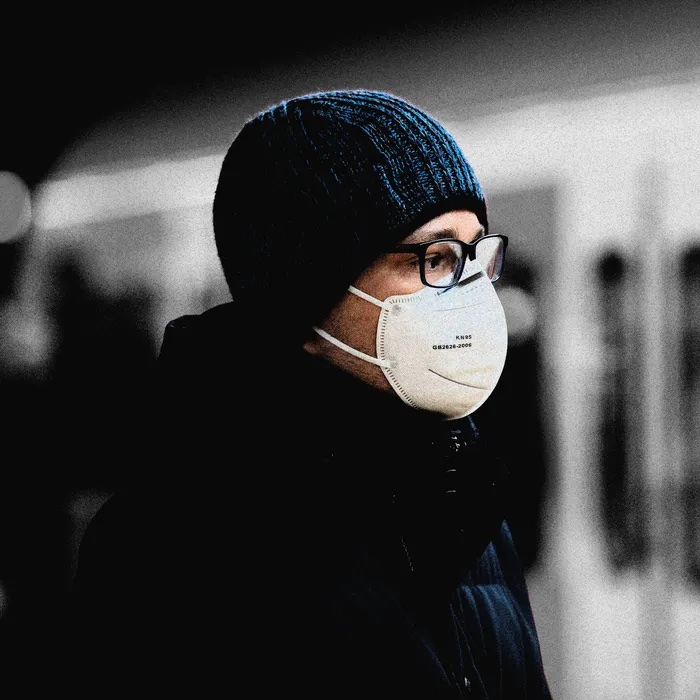Head: (303, 90, 507, 418)
